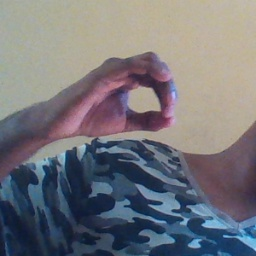O: (68, 45, 179, 147)
